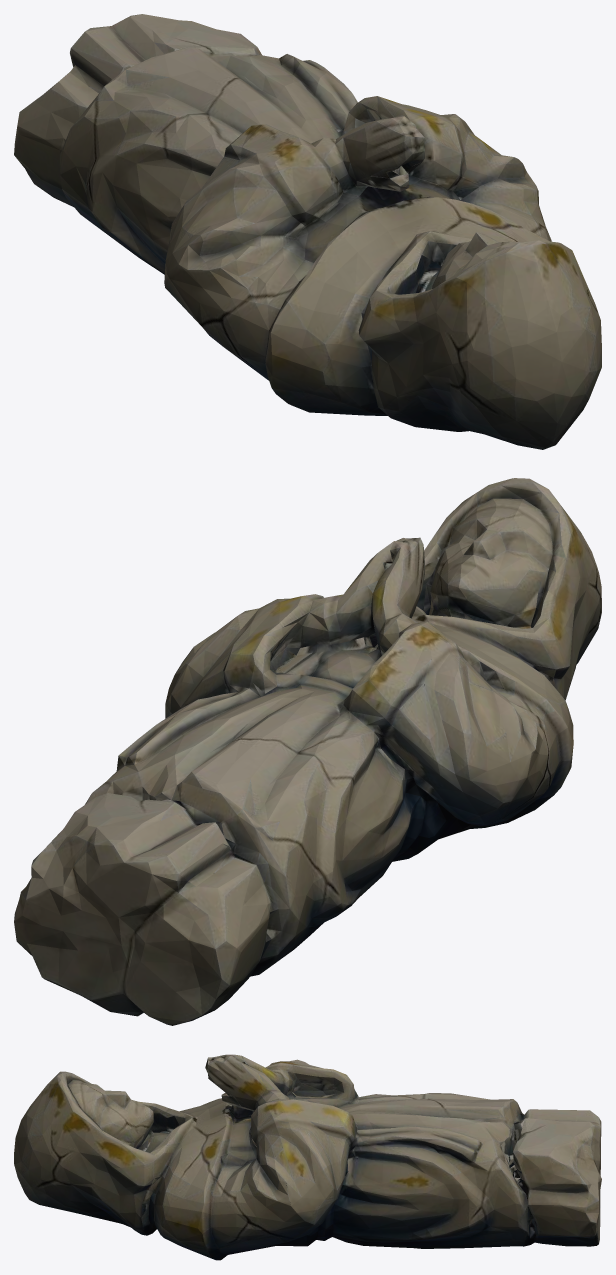
File: fallen_saint.glb
3 views of the same model, one above another, from view 1: azimuth 30°, elevation 25°; view 2: azimuth 150°, elevation 25°; view 3: azimuth 270°, elevation 25° (orthographic). The views are drawn at different scales.
Parts seen in each view (by area): view 1: tripo_node_cc5d24d4-61ed-4a28-8171-abd2a5816554.001; view 2: tripo_node_cc5d24d4-61ed-4a28-8171-abd2a5816554.001; view 3: tripo_node_cc5d24d4-61ed-4a28-8171-abd2a5816554.001.
Part boxes in pixels (left/top/right/bottom): tripo_node_cc5d24d4-61ed-4a28-8171-abd2a5816554.001: left=14, top=14, right=601, bottom=449; tripo_node_cc5d24d4-61ed-4a28-8171-abd2a5816554.001: left=14, top=478, right=601, bottom=1025; tripo_node_cc5d24d4-61ed-4a28-8171-abd2a5816554.001: left=14, top=1054, right=601, bottom=1260.
Size of the model in its own units: 0.4633 by 0.345 by 0.9988.
1 material, 1 textured.
